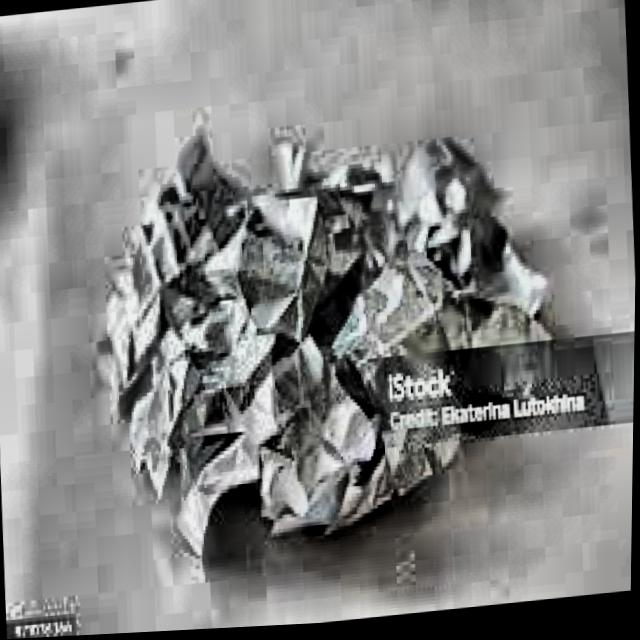Foil: (68, 77, 570, 561)
